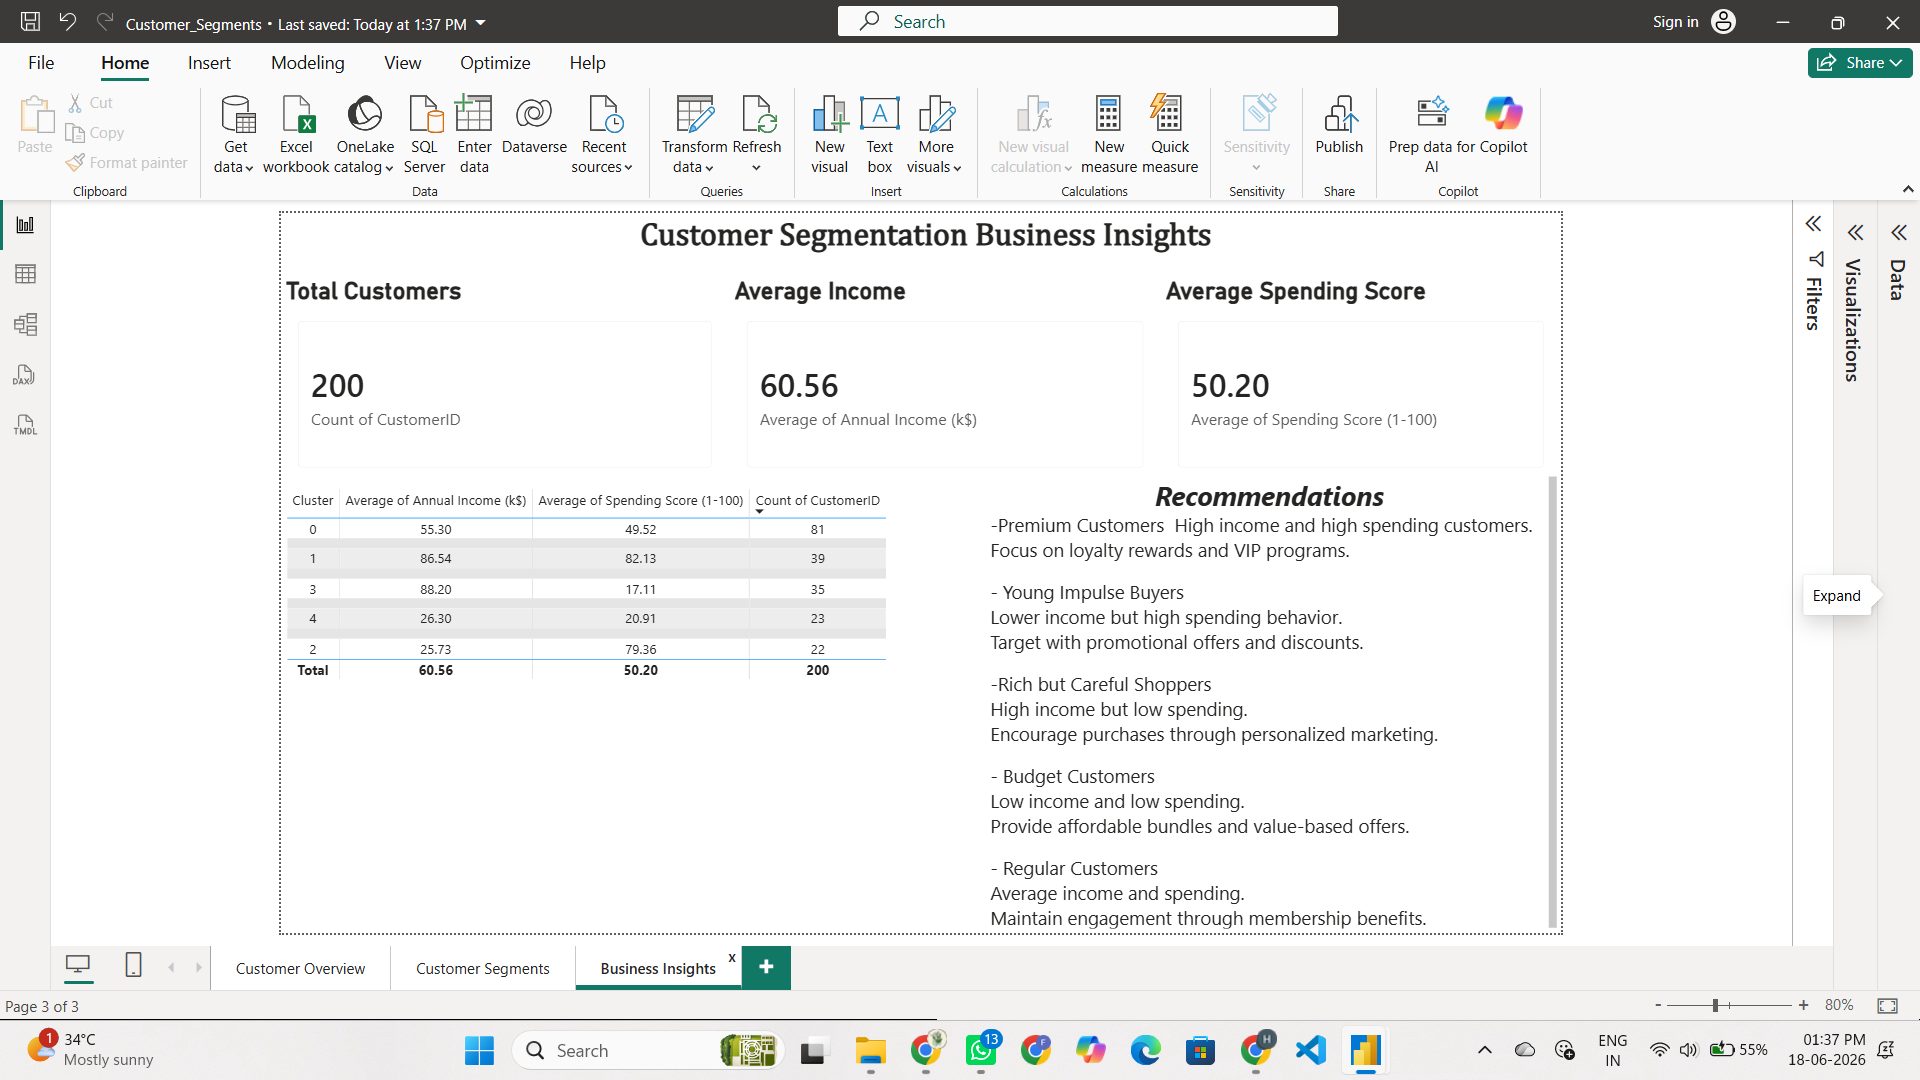

The dashboard page shown, as its layout file describes it:
{"tool":"powerbi","page":{"name":"Business Insights","canvas":[1280,720],"ordinal":2},"visuals":[{"type":"textbox","box":[10.3,0,1269.7,49.2],"z":0},{"type":"cardVisual","title":"Total Customers","fields":{"Data":["CountNonNull(Customer_Segments.CustomerID)"]},"box":[0,63.3,448.3,208.3],"z":1000},{"type":"cardVisual","title":"Average Income","fields":{"Data":["Avg(Customer_Segments.Annual Income (k$))"]},"box":[448.3,63.3,431.7,208.3],"z":2000},{"type":"cardVisual","title":"Average Spending Score","fields":{"Data":["Avg(Customer_Segments.Spending Score (1-100))"]},"box":[880,63.3,400,208.3],"z":3000},{"type":"tableEx","fields":{"Values":["Customer_Segments.Cluster","Avg(Customer_Segments.Annual Income (k$))","Avg(Customer_Segments.Spending Score (1-100))","CountNonNull(Customer_Segments.CustomerID)"]},"box":[0,271.7,703.3,448.3],"z":4000},{"type":"textbox","box":[703.3,258.3,576.7,461.7],"z":5000}]}

Visuals, with their boxes on the page's 1280x720 design canvas (x1, y1, x2, y2). These are canvas units, not pixel positions in the 1920x1080 screenshot, which may show the page scaled, cropped or inside an application window:
textbox: locate(10, 0, 1280, 49)
"Total Customers" cardVisual: locate(0, 63, 448, 272)
"Average Income" cardVisual: locate(448, 63, 880, 272)
"Average Spending Score" cardVisual: locate(880, 63, 1280, 272)
tableEx - Customer_Segments.Cluster x Avg(Customer_Segments.Annual Income (k$)): locate(0, 272, 703, 720)
textbox: locate(703, 258, 1280, 720)
